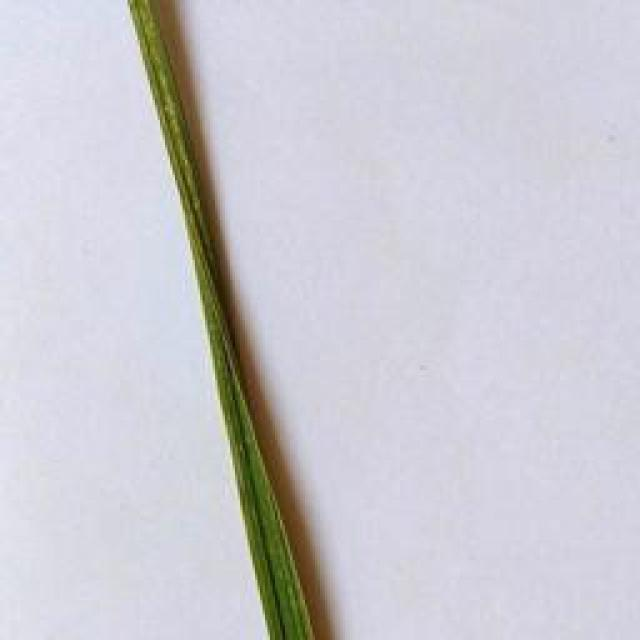Healthy-Plant: (120, 0, 320, 640)
